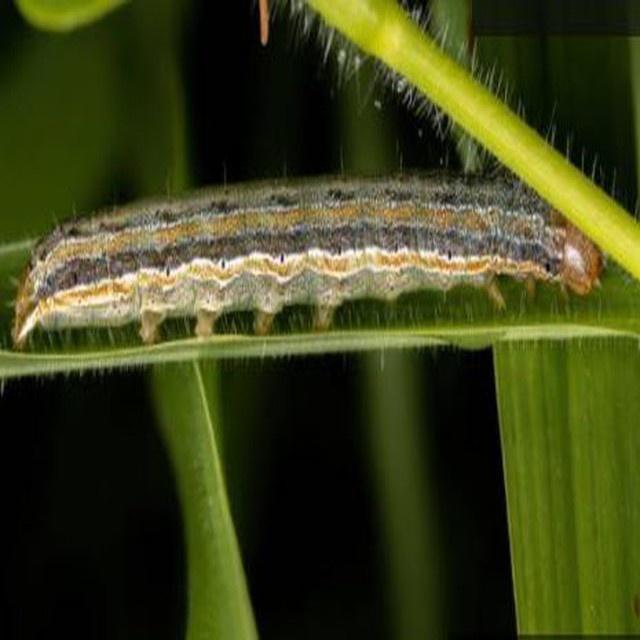Plaga: (4, 166, 608, 355)
